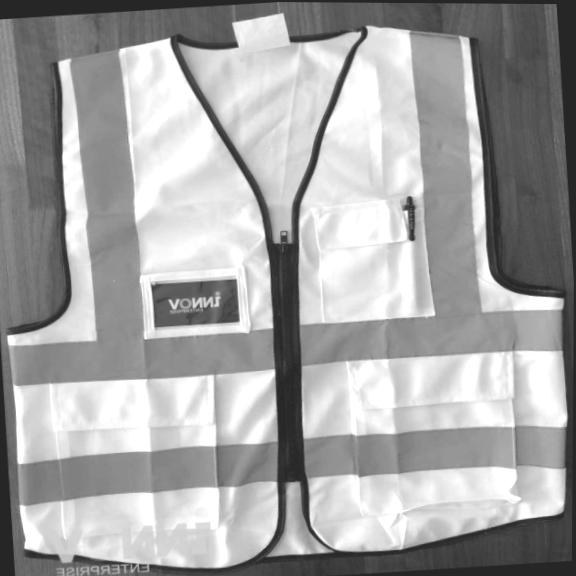safety_vest: (0, 1, 576, 576)
